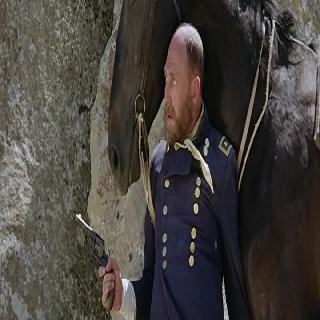gun: (71, 203, 120, 312)
